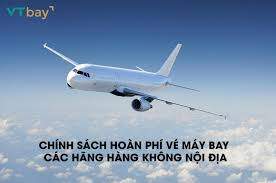maybay_dansu: (39, 41, 241, 125)
